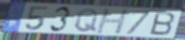3: (48, 6, 75, 33)
5: (24, 6, 50, 32)
7: (125, 10, 151, 35)
B: (149, 11, 177, 37)
H: (94, 9, 130, 35)
Q: (74, 8, 100, 34)
